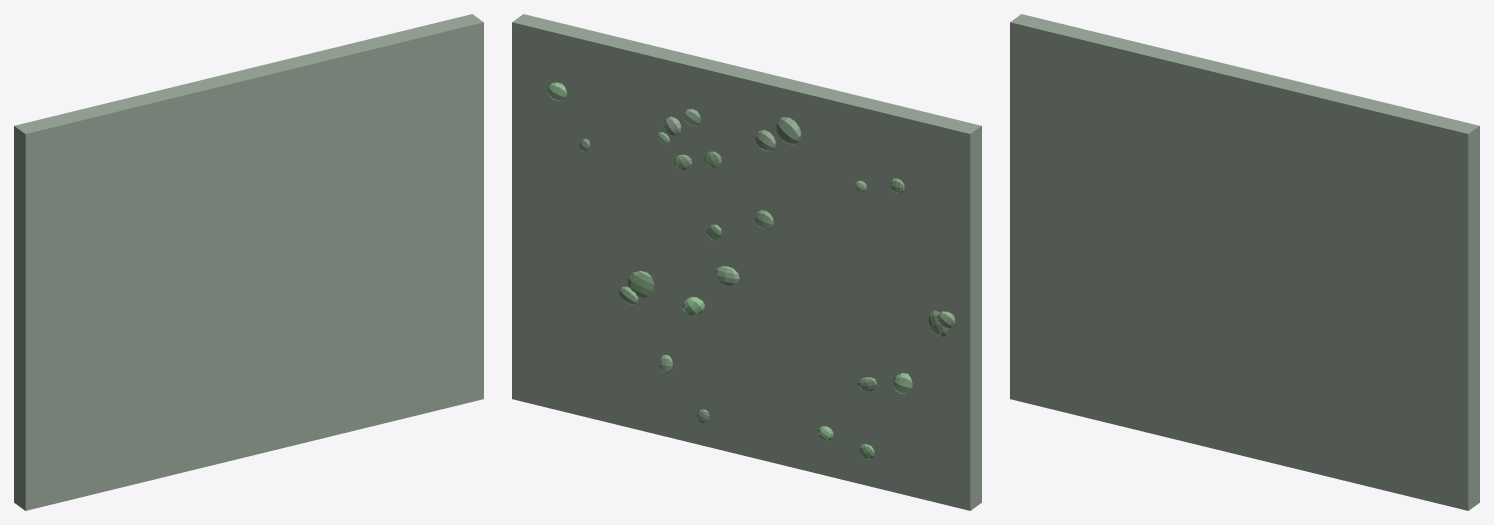
Rendered from OysterLayer.fbx.
The picture shows the model from 3 angles, left to right: view 1: azimuth 30°, elevation 25°; view 2: azimuth 150°, elevation 25°; view 3: azimuth 330°, elevation 25°; orthographic projection.
Visible parts, largest first — view 1: OysterBase; view 2: OysterBase, Oyster_24, Oyster_18; view 3: OysterBase.
Boxes of the visible parts, x1=… form: OysterBase: x1=14, y1=14, x2=483, y2=510; OysterBase: x1=512, y1=14, x2=981, y2=510; Oyster_24: x1=627, y1=271, x2=654, y2=298; Oyster_18: x1=776, y1=117, x2=801, y2=144; OysterBase: x1=1010, y1=14, x2=1479, y2=510.
Bounding box in the file's own units: 14 × 11 × 0.9523.
